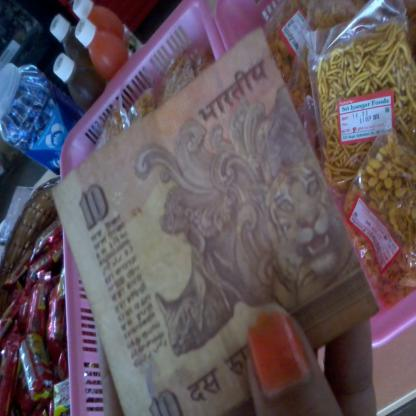Old10Back: (51, 26, 381, 416)
